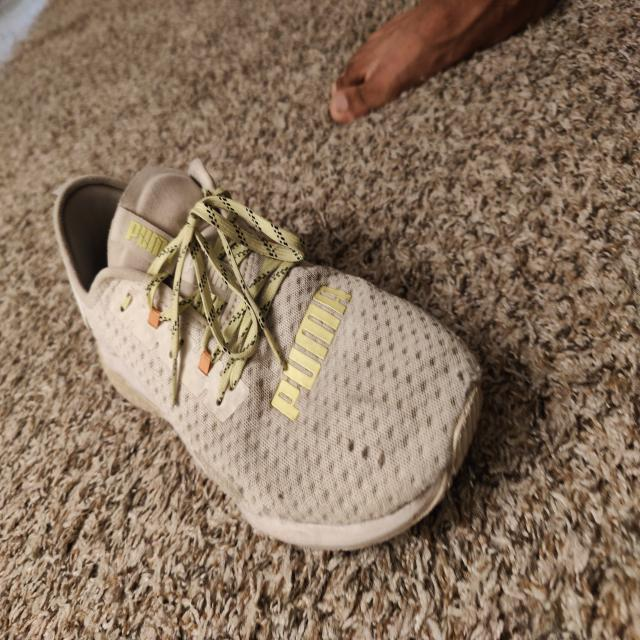white shoes: (69, 198, 402, 474)
